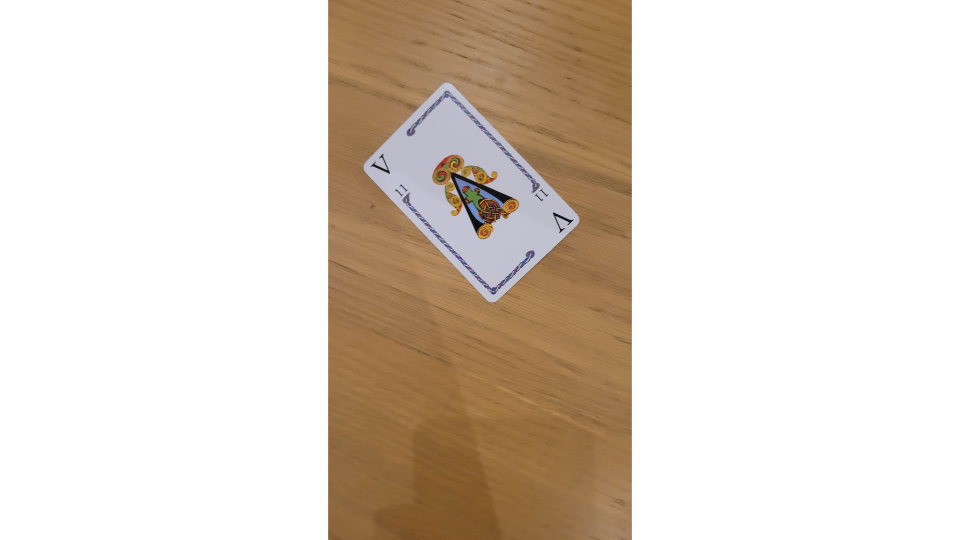V: (362, 80, 585, 305)
